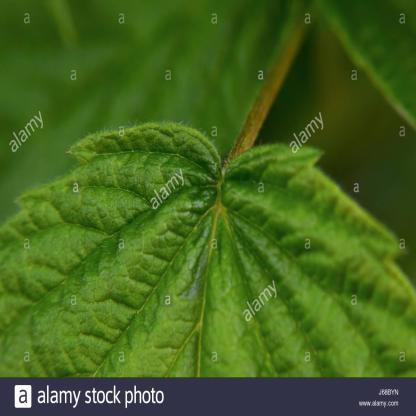Raspberry leaf: (0, 118, 416, 377)
